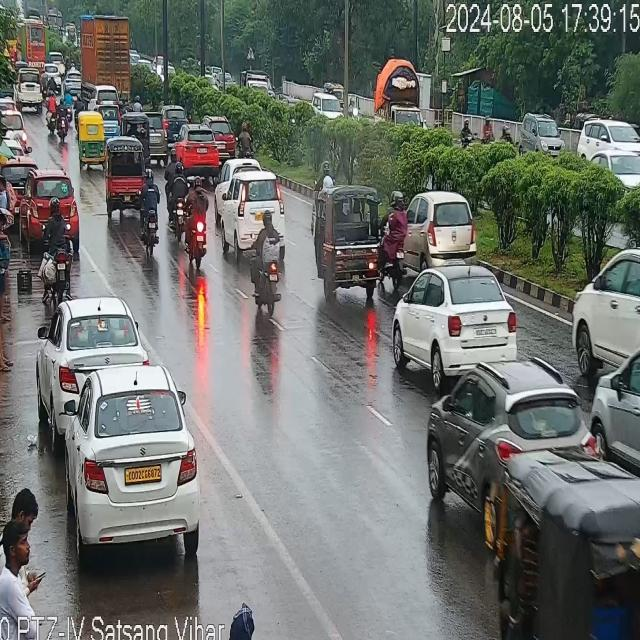2-wheelers: (242, 210, 290, 314), (38, 200, 74, 280), (376, 192, 406, 284), (184, 166, 207, 268), (168, 156, 188, 248), (138, 172, 162, 235), (390, 186, 408, 250), (45, 98, 69, 144), (45, 90, 59, 128), (61, 94, 72, 140), (66, 87, 77, 121)
auto: (500, 447, 640, 640), (317, 182, 387, 301), (104, 138, 146, 204), (80, 112, 112, 168)
bus: (23, 20, 51, 68)
car: (61, 372, 196, 554), (418, 361, 596, 493), (388, 264, 520, 374), (44, 295, 142, 411), (570, 242, 640, 368), (588, 337, 640, 475), (219, 161, 289, 261), (403, 189, 476, 265), (574, 113, 640, 189), (178, 130, 222, 172), (12, 68, 43, 110)
pedestrian: (0, 467, 44, 601), (0, 210, 12, 326), (224, 599, 257, 640), (0, 289, 15, 372), (0, 177, 10, 213)
truck: (78, 8, 138, 106), (378, 60, 423, 131)
